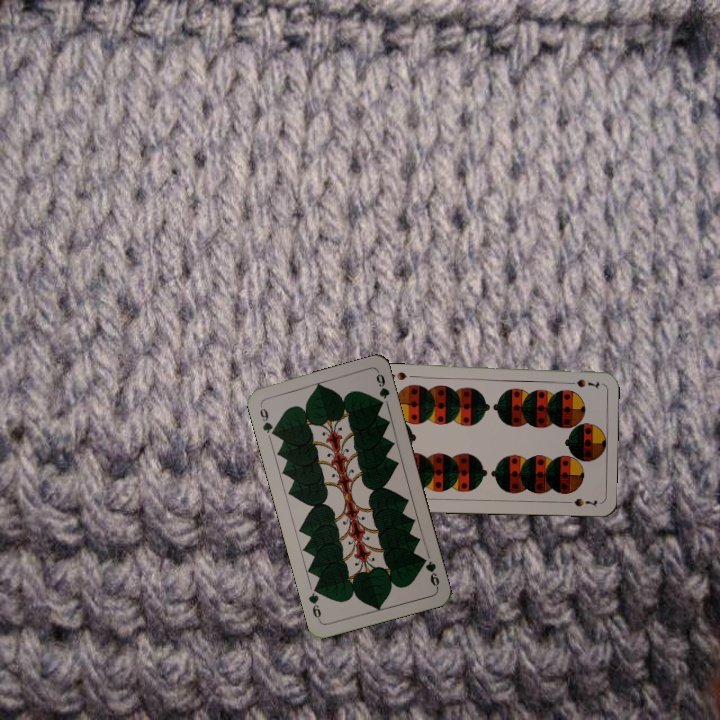G9: (417, 553, 442, 591), (256, 401, 279, 439)
S7: (562, 375, 602, 391)
